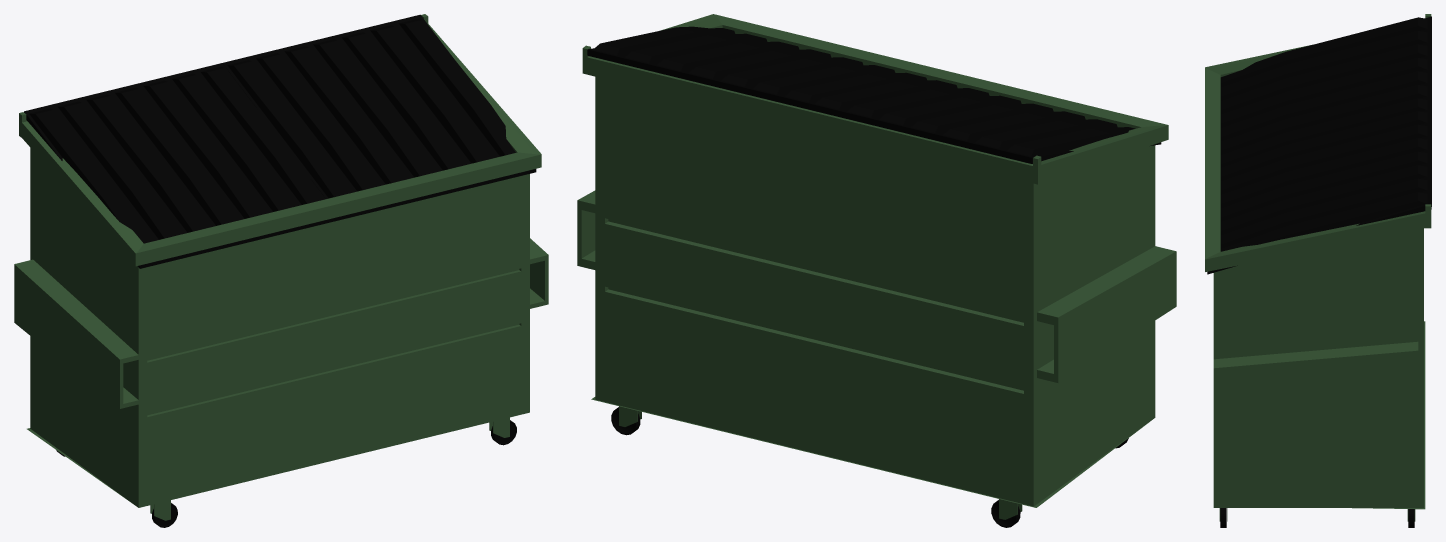
File: SM_Dumbster2.fbx
3 renders of one model, left to right at view 1: azimuth 30°, elevation 25°; view 2: azimuth 150°, elevation 25°; view 3: azimuth 270°, elevation 25°, orthographic. The views are drawn at different scales.
Parts seen in each view (by area): view 1: Dumbster, Dumbster-Cover, Dumbster-Cover.001; view 2: Dumbster, Dumbster-Cover.001, Dumbster-Cover, Dumbster-Wheel.003, Dumbster-Wheel.002; view 3: Dumbster, Dumbster-Cover, Dumbster-Cover.001.
Part boxes in pixels (box(x1,y1,x2,y2)): Dumbster: box(14, 14, 548, 507); Dumbster-Cover: box(222, 14, 536, 220); Dumbster-Cover.001: box(24, 63, 337, 268); Dumbster: box(577, 14, 1176, 507); Dumbster-Cover.001: box(809, 80, 1161, 163); Dumbster-Cover: box(587, 26, 926, 109); Dumbster-Wheel.003: box(991, 499, 1022, 527); Dumbster-Wheel.002: box(611, 406, 641, 435); Dumbster: box(1205, 14, 1431, 509); Dumbster-Cover: box(1207, 110, 1431, 274); Dumbster-Cover.001: box(1220, 16, 1431, 167).
Size of the model in its own units: 192 by 148 by 90.78.
